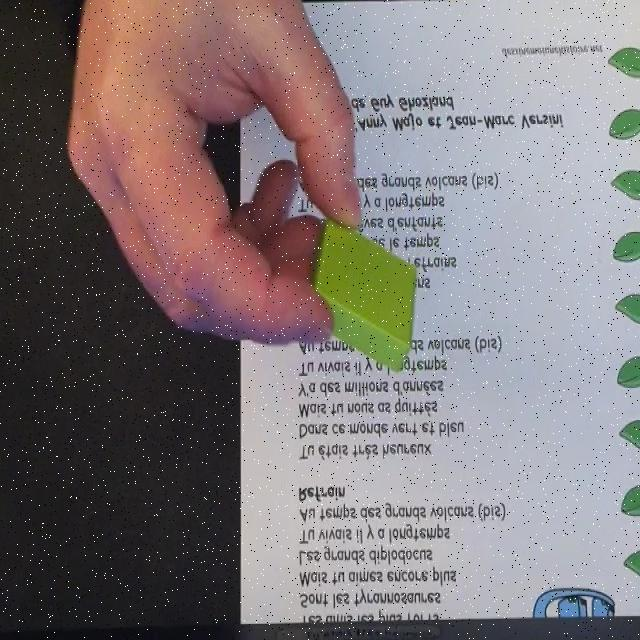square: (309, 220, 417, 372)
